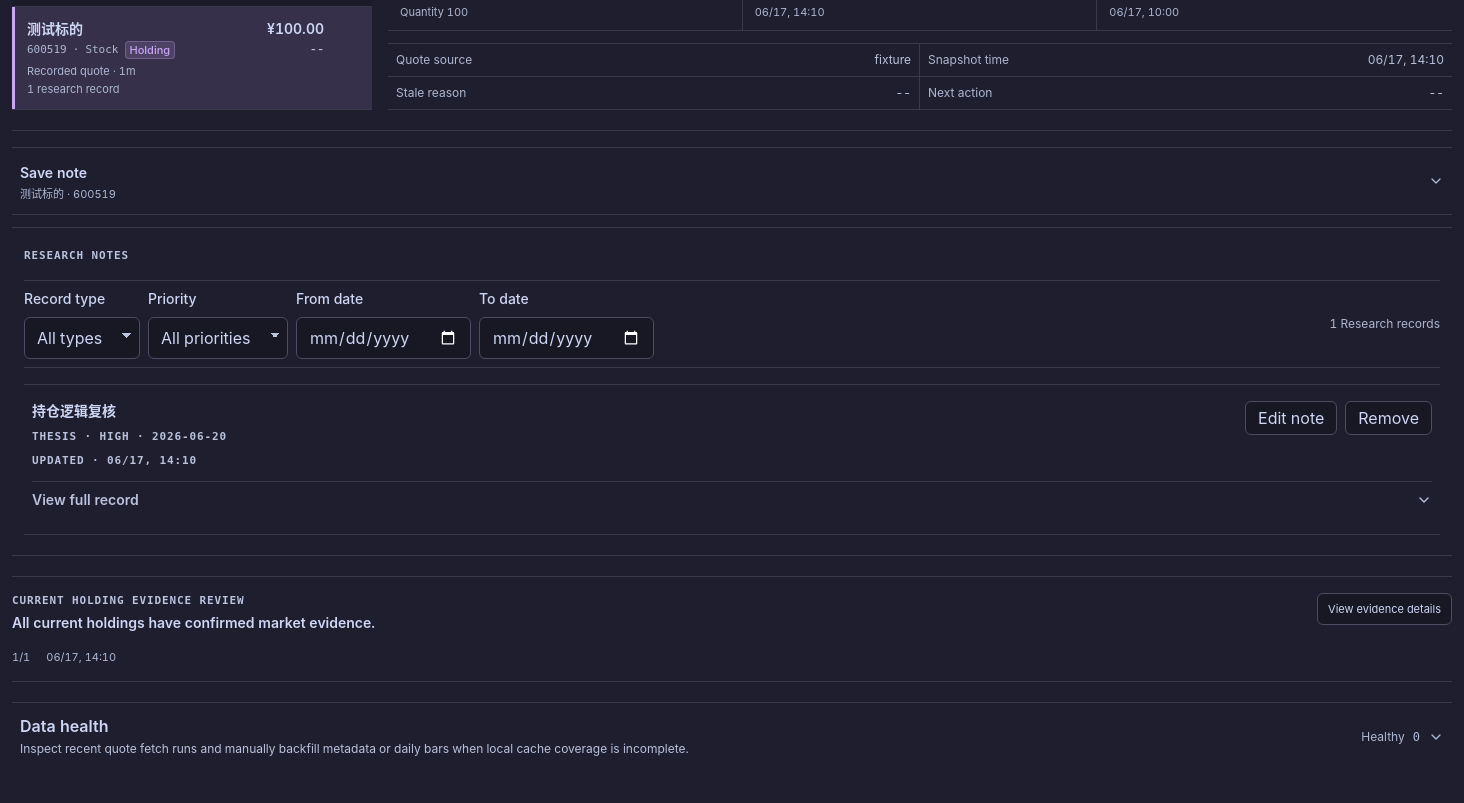
Test: keeps full research-note evidence behind an explicit disclosure
(page scrolled)
Click the text "View full record".
click(85, 500)  # box [32,490,139,510]
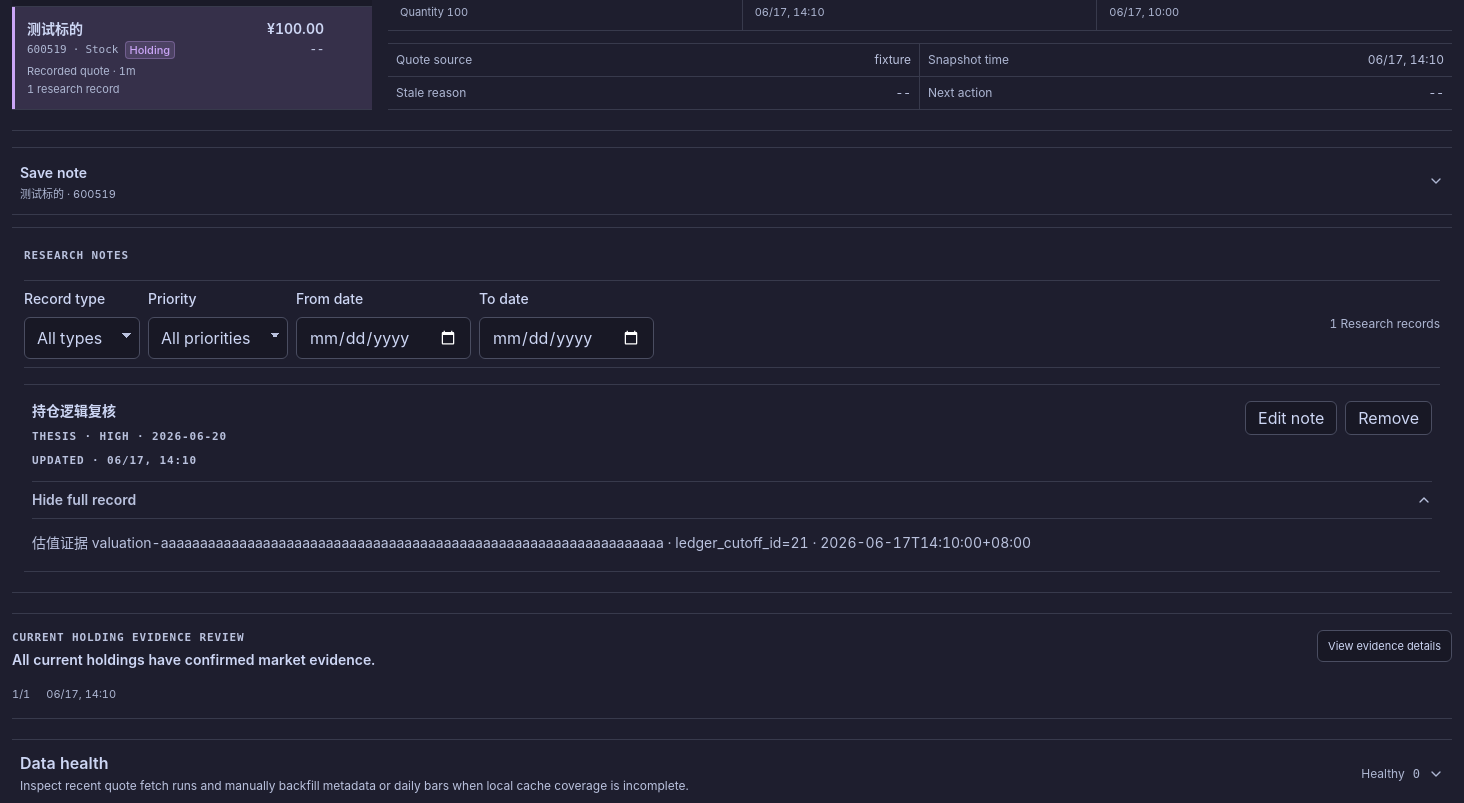
Result: the text "Hide full record" is shown at [32,490,136,510]
